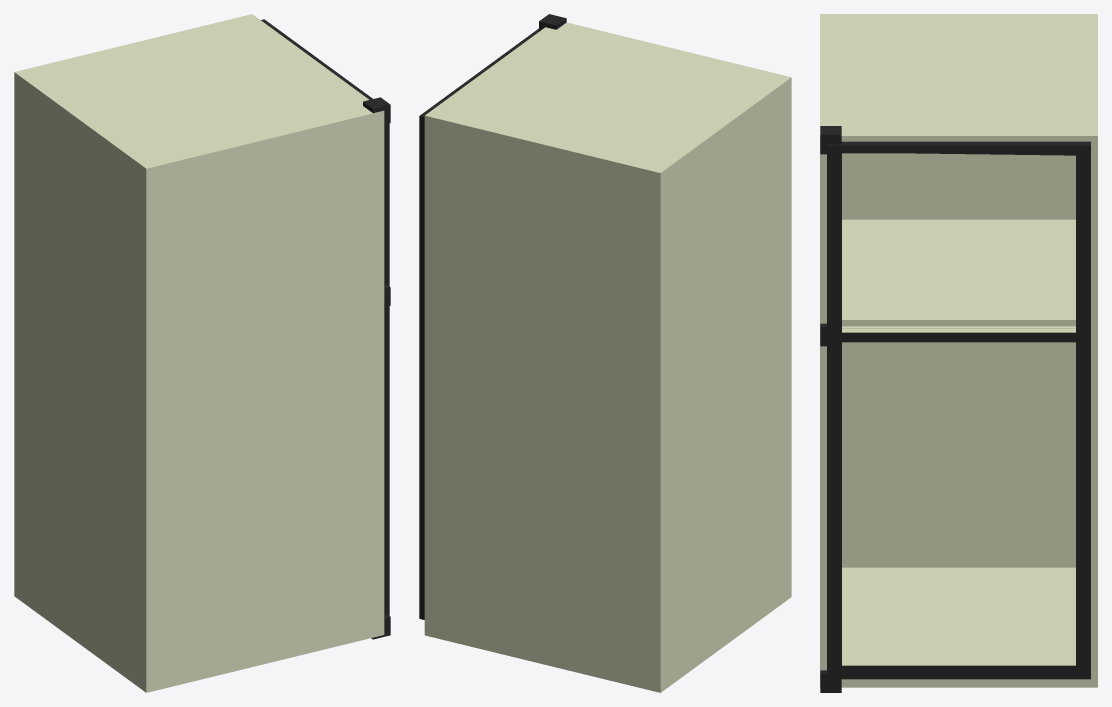
Rendered from Fridge-Base.fbx.
3 views of the same model, side by side, from view 1: azimuth 30°, elevation 25°; view 2: azimuth 150°, elevation 25°; view 3: azimuth 270°, elevation 25° (orthographic). The views are drawn at different scales.
Parts seen in each view (by area): view 1: Fridge; view 2: Fridge; view 3: Fridge.
Boxes of the visible parts, <box> form: Fridge: <box>14,14,390,692</box>; Fridge: <box>419,14,791,692</box>; Fridge: <box>820,14,1097,692</box>.
Size of the model in its own units: 81.39 by 167 by 75.5.
